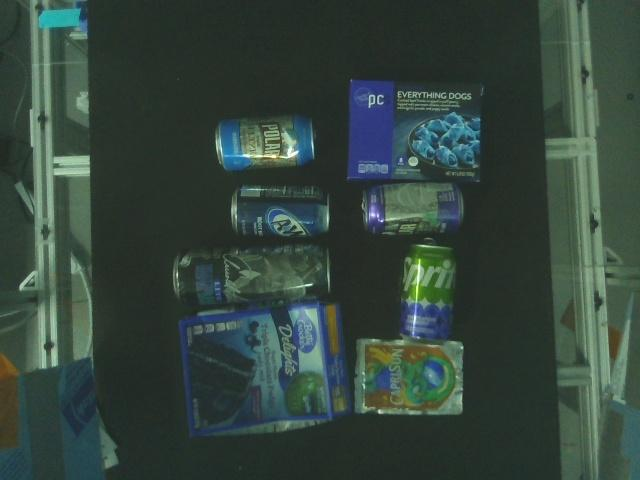cardboard: (174, 299, 354, 445), (345, 76, 487, 183)
metal: (169, 241, 335, 309), (211, 107, 323, 175), (392, 238, 461, 347), (227, 180, 336, 243), (357, 180, 471, 239)
plastic: (351, 337, 468, 418)
